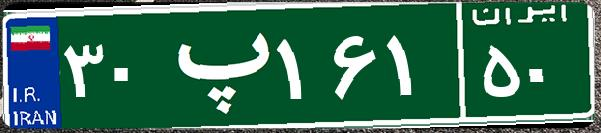0: (110, 28, 158, 105), (525, 38, 570, 115)
1: (385, 28, 445, 110), (273, 28, 330, 110)
3: (57, 26, 110, 107)
5: (475, 38, 525, 113)
6: (330, 28, 385, 110)
پ: (158, 15, 273, 115)
